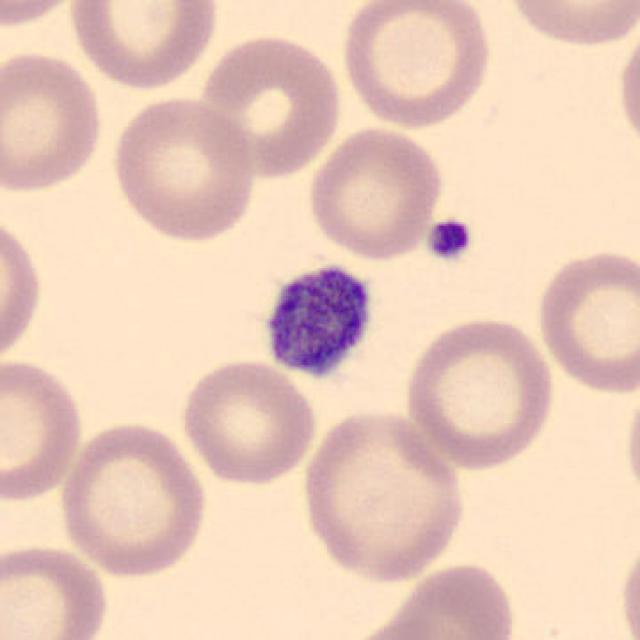Platelets: (256, 254, 377, 384), (423, 215, 477, 265)
RBC: (297, 406, 469, 586), (400, 312, 558, 473), (55, 418, 212, 580), (106, 92, 260, 245), (195, 30, 345, 180), (338, 0, 496, 130), (304, 121, 448, 262), (176, 356, 318, 487), (532, 242, 638, 398), (0, 48, 107, 196), (64, 0, 224, 92), (0, 354, 87, 504), (0, 539, 112, 640), (386, 559, 519, 640), (0, 207, 46, 370), (500, 0, 638, 51), (613, 12, 640, 159), (342, 615, 476, 640), (0, 0, 92, 31), (615, 530, 640, 640), (620, 376, 640, 512)
